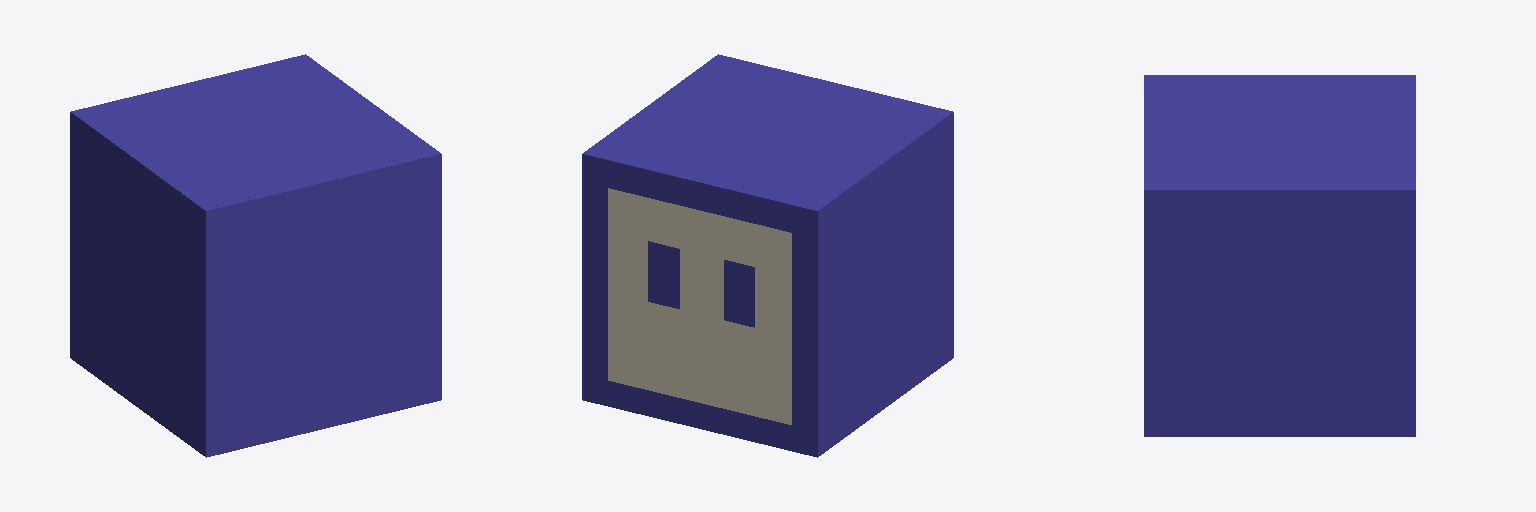
3 views of the same model, side by side, from view 1: azimuth 30°, elevation 25°; view 2: azimuth 150°, elevation 25°; view 3: azimuth 270°, elevation 25° (orthographic).
Visible parts, largest first — view 1: Cube; view 2: Cube; view 3: Cube.
Part boxes in pixels (x1,y1,x2,y2): Cube: (70,54,441,457); Cube: (582,54,953,457); Cube: (1144,75,1415,436).
Size of the model in its own units: 2 by 2 by 2.
1 materials, 1 textured.